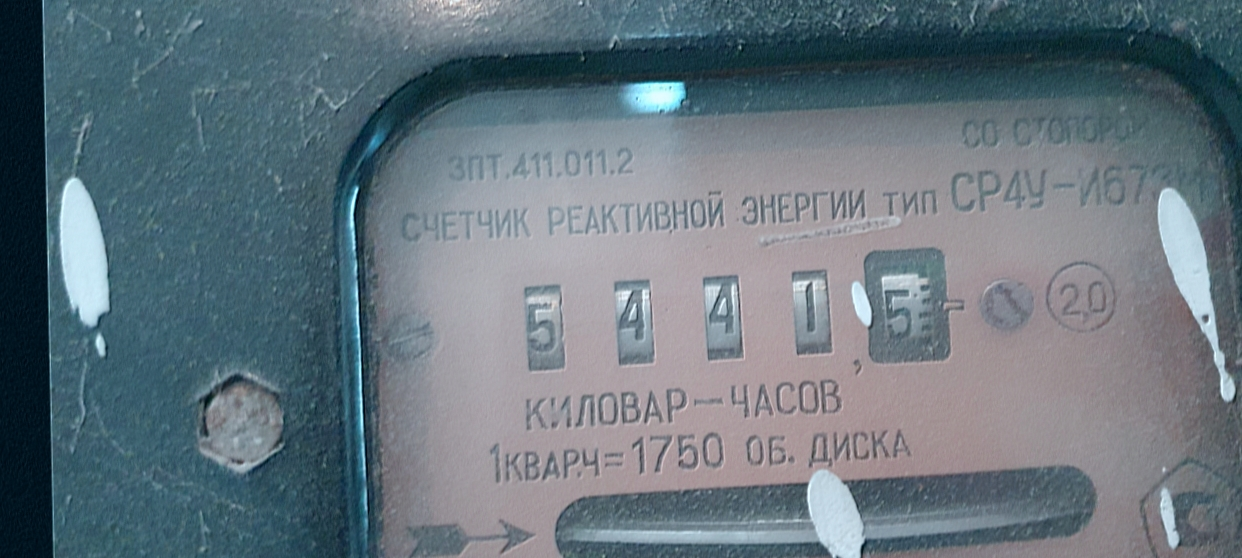1: (794, 278, 819, 336)
4: (699, 275, 737, 342), (611, 283, 648, 345)
5: (519, 298, 559, 356), (878, 282, 914, 345)
screen: (496, 224, 972, 399)
